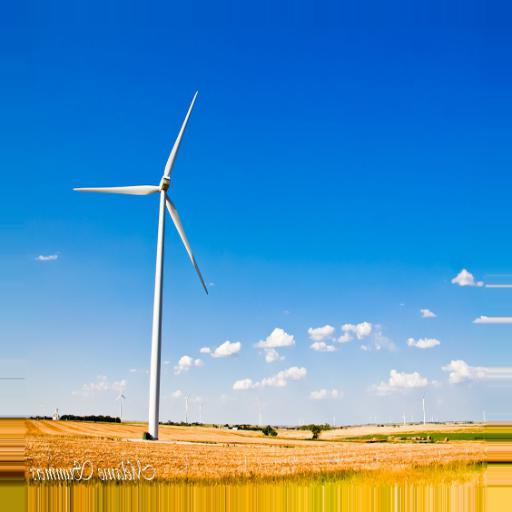wind turbine: (72, 90, 210, 431)
